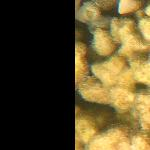dead: (80, 2, 149, 146)
